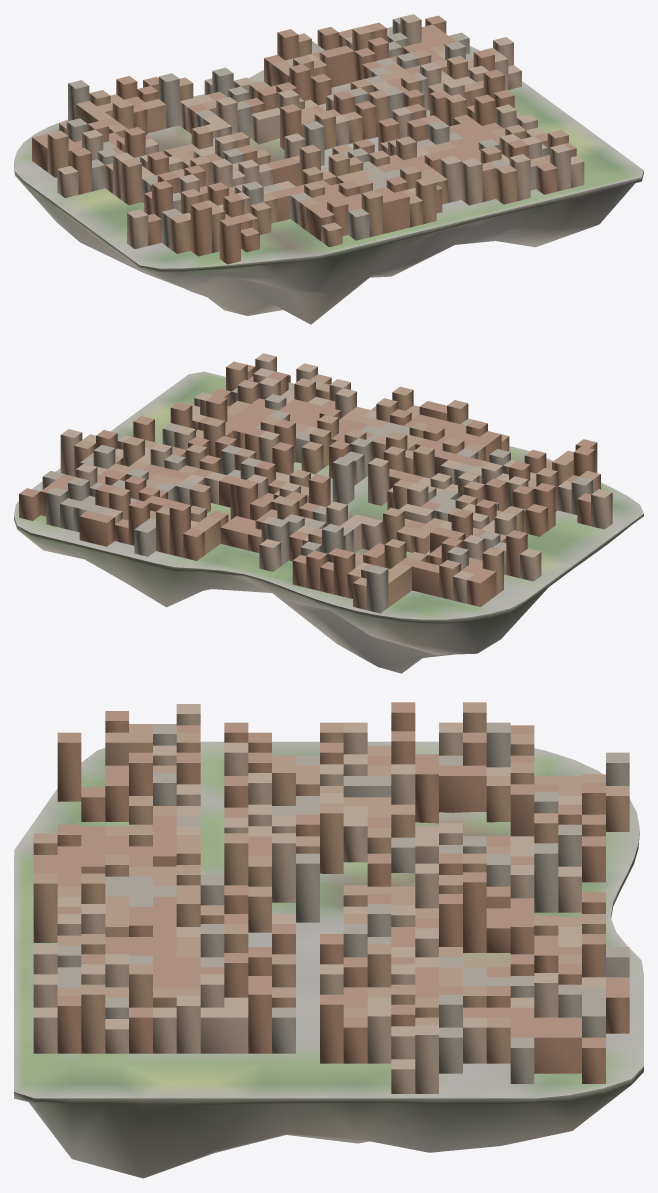
Rendered from SKY-094.lod1.glb.
3 views of the same model, one above another, from view 1: azimuth 30°, elevation 25°; view 2: azimuth 150°, elevation 25°; view 3: azimuth 270°, elevation 25° (orthographic). The views are drawn at different scales.
Parts seen in each view (by area): view 1: warren_hull, rock, deck; view 2: warren_hull, deck, rock; view 3: warren_hull, deck, rock.
Boxes of the visible parts, left/top/right/bottom form: warren_hull: left=32, top=14, right=584, bottom=264; rock: left=14, top=163, right=643, bottom=324; deck: left=14, top=46, right=643, bottom=268; warren_hull: left=19, top=353, right=612, bottom=613; deck: left=14, top=371, right=643, bottom=619; rock: left=14, top=514, right=643, bottom=673; warren_hull: left=33, top=702, right=629, bottom=1093; deck: left=14, top=741, right=643, bottom=1098; rock: left=14, top=831, right=643, bottom=1178.
Size of the model in its own units: 212 by 79.49 by 159.
